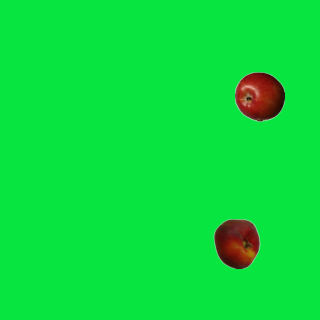Apple Braeburn: (234, 71, 284, 121)
Nectarine Flat: (211, 218, 261, 268)
